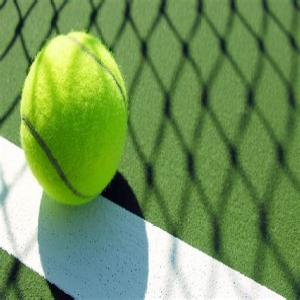Tennis: (23, 31, 130, 204)
